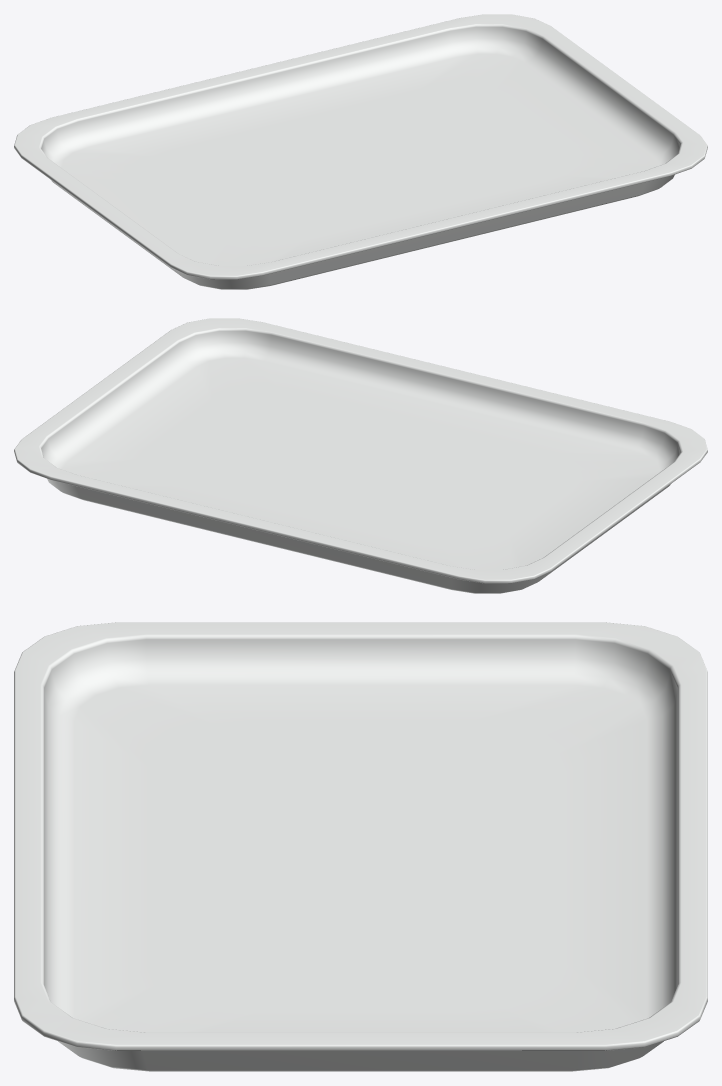
Rendered from Metal_Tray.glb.
3 views of the same model, one above another, from view 1: azimuth 30°, elevation 25°; view 2: azimuth 150°, elevation 25°; view 3: azimuth 270°, elevation 25° (orthographic). The views are drawn at different scales.
Parts seen in each view (by area): view 1: Tray.001; view 2: Tray.001; view 3: Tray.001.
Boxes of the visible parts, x1=… form: Tray.001: x1=14, y1=14, x2=707, y2=289; Tray.001: x1=14, y1=318, x2=707, y2=593; Tray.001: x1=14, y1=622, x2=707, y2=1071.
Size of the model in its own units: 0.8804 by 0.0473 by 0.6092.
1 material, 1 textured.
